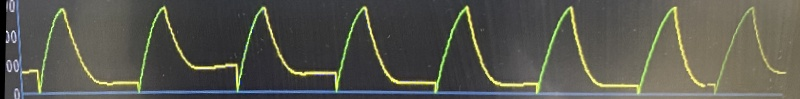leakage: (32, 0, 722, 99)
